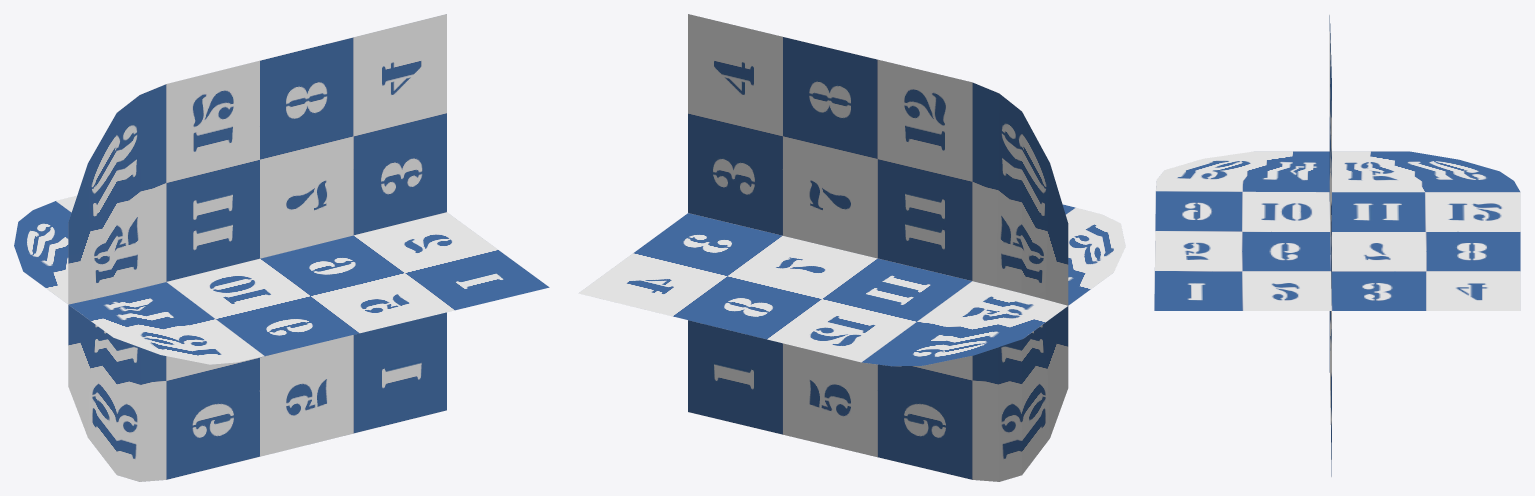
File: Shinobu_CrossPlane.fbx
3 renders of one model, left to right at view 1: azimuth 30°, elevation 25°; view 2: azimuth 150°, elevation 25°; view 3: azimuth 270°, elevation 25°, orthographic. The views are drawn at different scales.
Parts seen in each view (by area): view 1: SM_e_Plc_P0011_CrossPlane001; view 2: SM_e_Plc_P0011_CrossPlane001; view 3: SM_e_Plc_P0011_CrossPlane001.
Boxes of the visible parts, bbox=[...] form: SM_e_Plc_P0011_CrossPlane001: bbox=[14, 14, 549, 481]; SM_e_Plc_P0011_CrossPlane001: bbox=[578, 14, 1125, 481]; SM_e_Plc_P0011_CrossPlane001: bbox=[1154, 15, 1520, 476].
Bounding box in the file's own units: 100 × 100 × 97.08.
